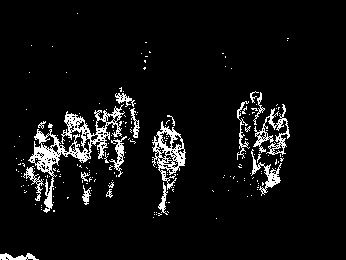person: (151, 114, 187, 217), (258, 103, 291, 193), (62, 110, 92, 205), (31, 119, 61, 213), (94, 108, 123, 198), (237, 90, 261, 163)
